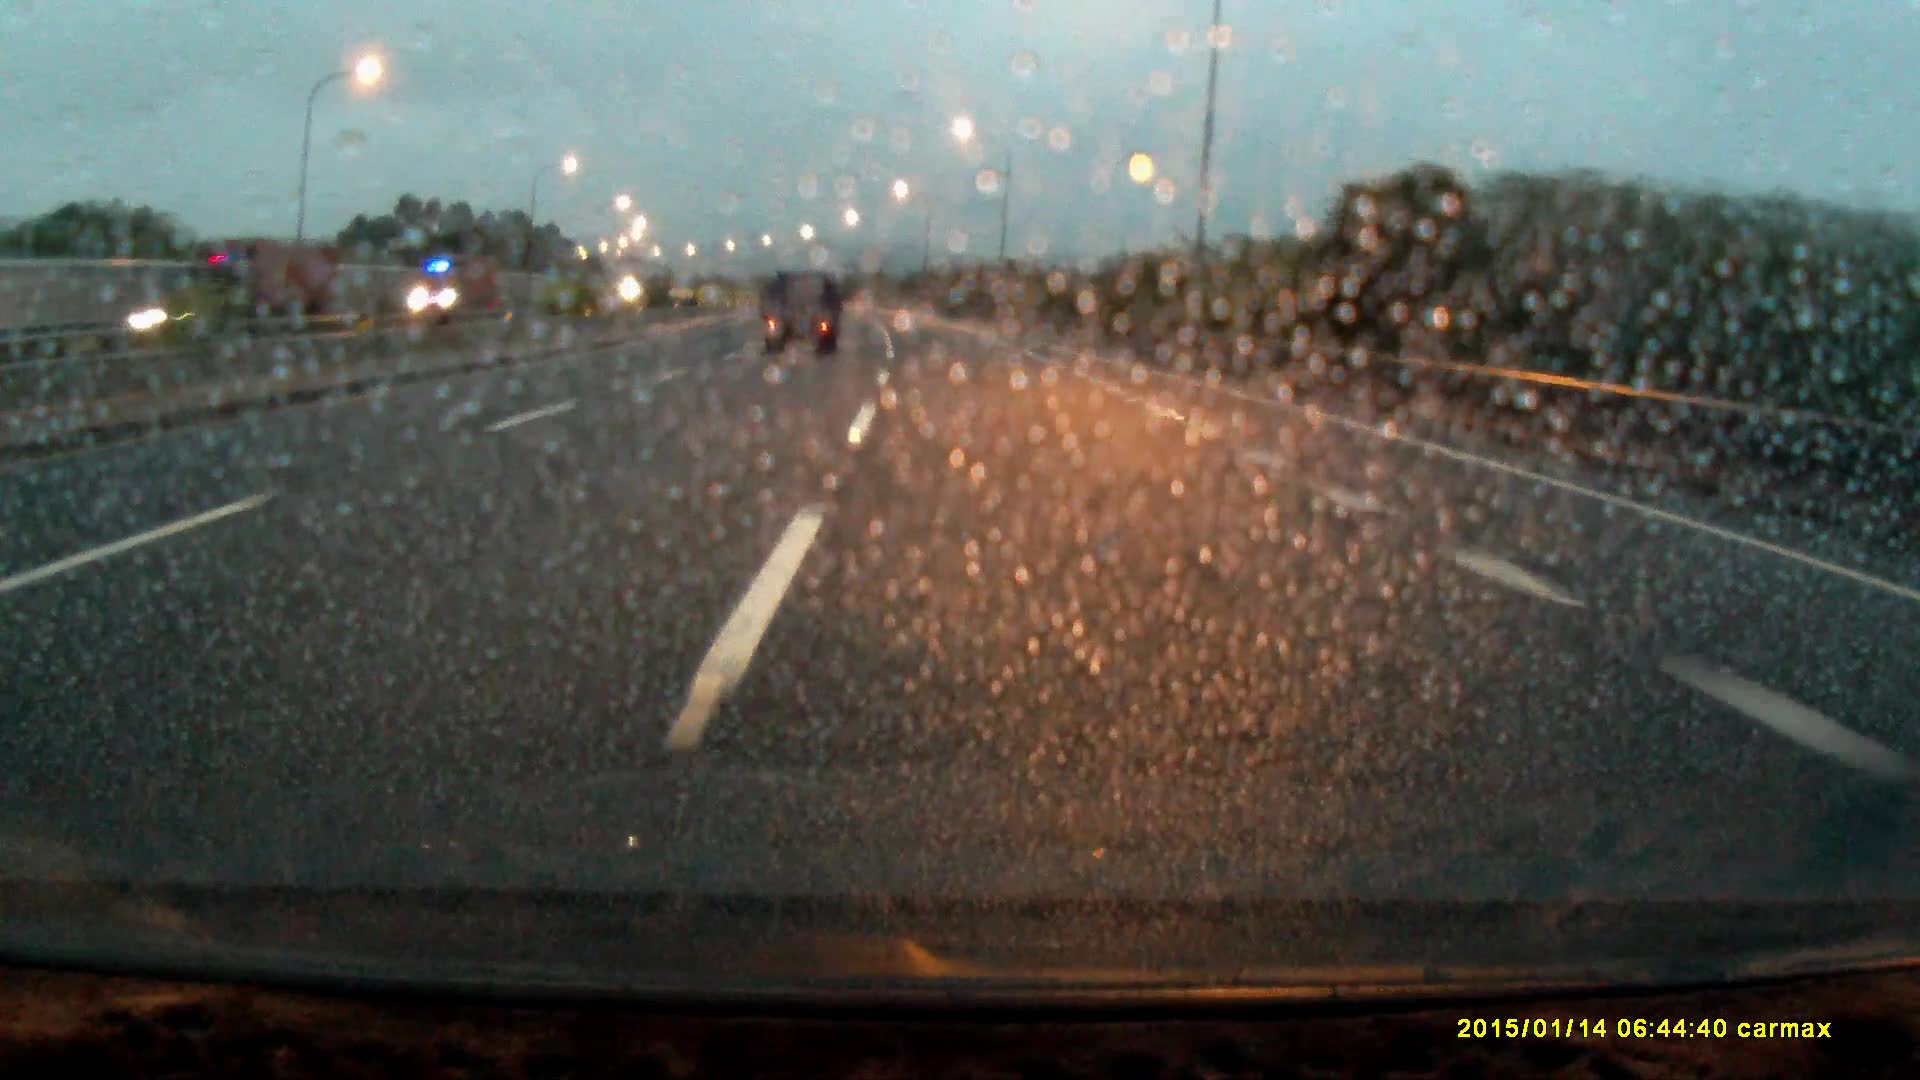vehicle: (160, 243, 331, 332), (761, 273, 841, 361), (405, 251, 495, 318)
